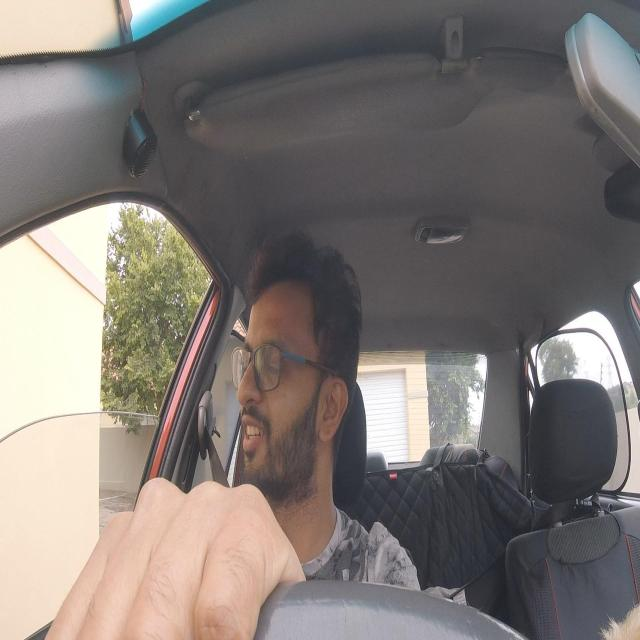close: (255, 339, 289, 387)
